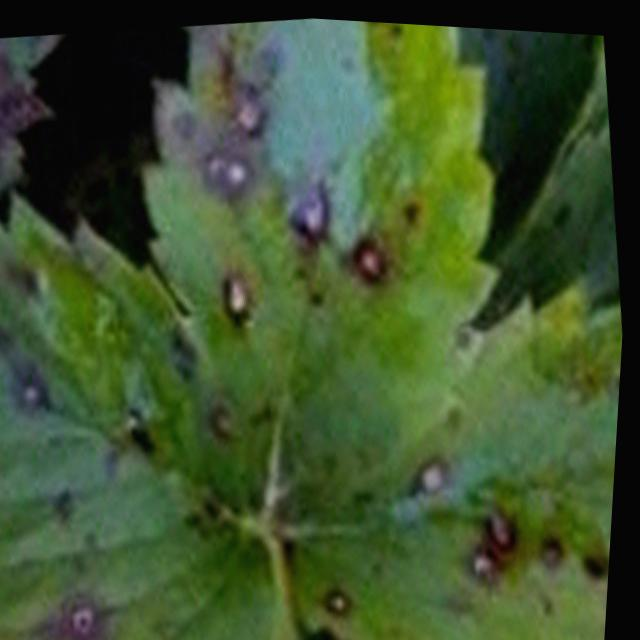Leaf Spot: (144, 14, 506, 511), (0, 189, 286, 640), (291, 263, 626, 640), (0, 32, 61, 190)
